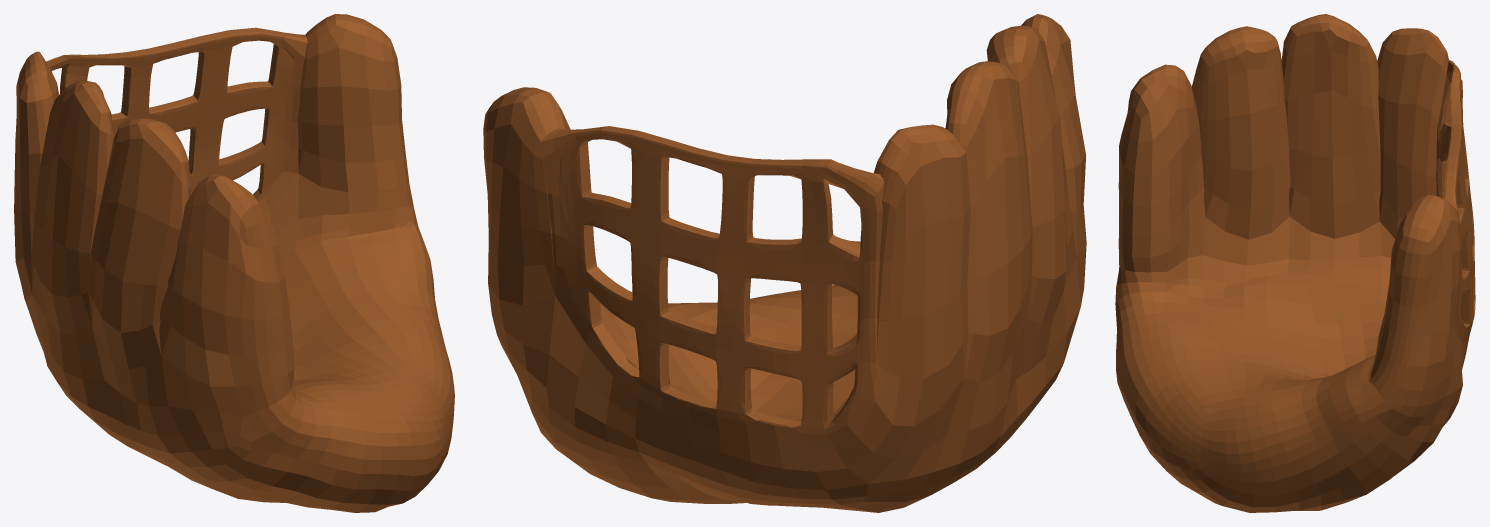
The model's file is glove-leather-840ed6a0d311.glb.
3 views of the same model, side by side, from view 1: azimuth 30°, elevation 25°; view 2: azimuth 150°, elevation 25°; view 3: azimuth 270°, elevation 25° (orthographic). The views are drawn at different scales.
Parts seen in each view (by area): view 1: Plane; view 2: Plane; view 3: Plane.
Boxes of the visible parts, x1,y1,x2,y2 form: Plane: [14, 14, 454, 512]; Plane: [483, 14, 1086, 512]; Plane: [1115, 14, 1475, 512].
Bounding box in the file's own units: 0.9493 × 1 × 0.8552.
